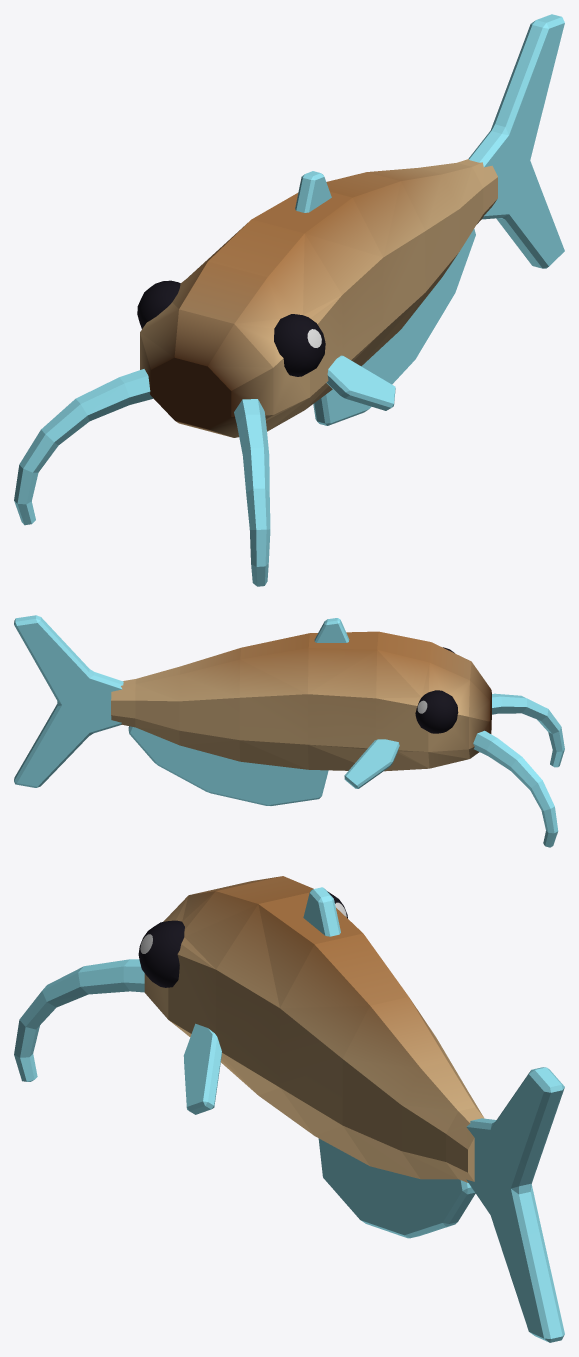
The model's file is Glass_Fish_Cooked.glb.
3 views of the same model, one above another, from view 1: azimuth 30°, elevation 25°; view 2: azimuth 150°, elevation 25°; view 3: azimuth 270°, elevation 25° (orthographic). The views are drawn at different scales.
Visible parts, largest first — view 1: Glass_Fish_Cooked; view 2: Glass_Fish_Cooked; view 3: Glass_Fish_Cooked.
Boxes of the visible parts, x1,y1,x2,y2 form: Glass_Fish_Cooked: (14, 14, 564, 586); Glass_Fish_Cooked: (14, 615, 564, 847); Glass_Fish_Cooked: (14, 876, 564, 1342).
Size of the model in its own units: 1.13 by 0.4384 by 0.7466.
